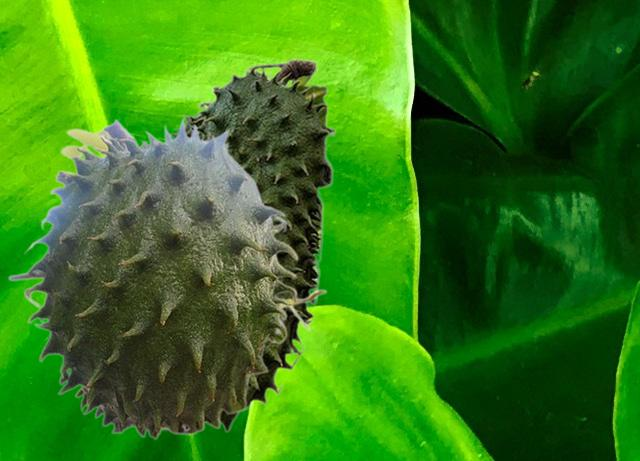guyabano: (7, 115, 327, 440), (163, 57, 335, 433)
